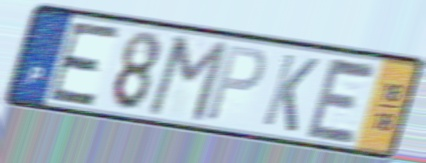8: (109, 30, 162, 113)
E: (302, 53, 381, 147), (45, 20, 124, 108)
K: (258, 50, 322, 136)
M: (144, 33, 232, 125)
P: (202, 43, 270, 125)
